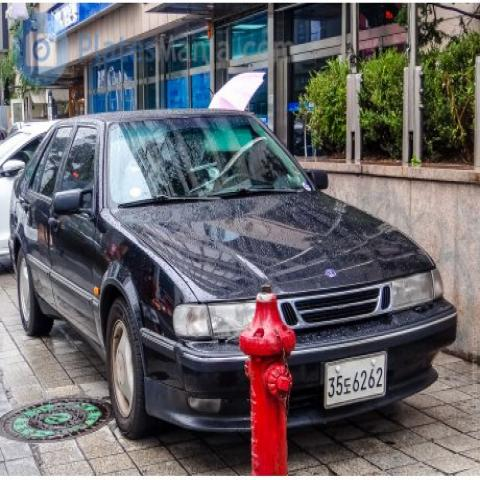LP: (322, 341, 392, 412)
